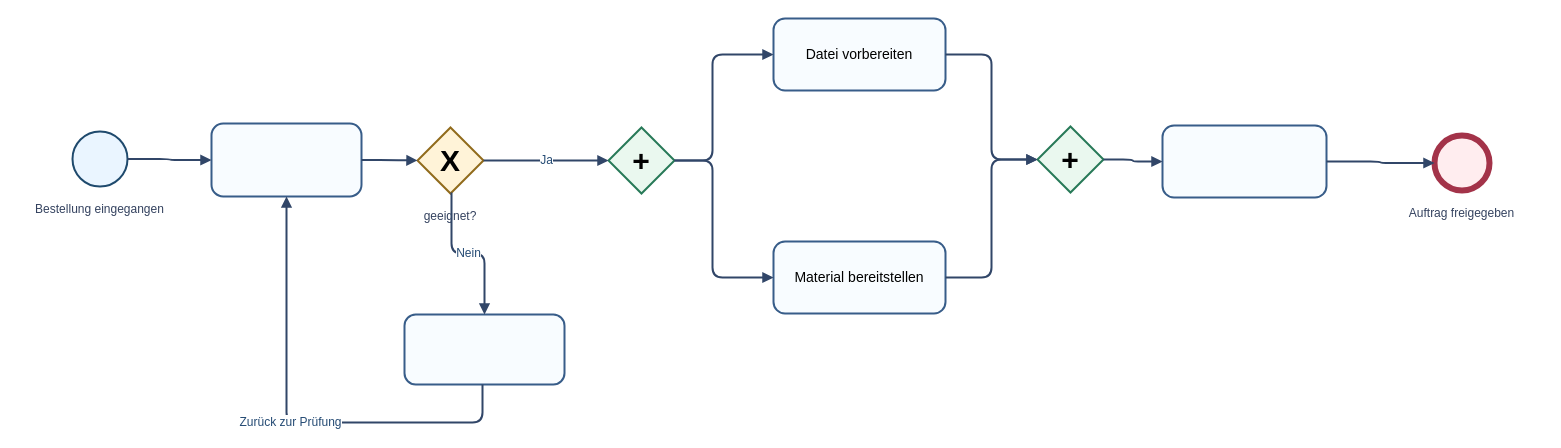
Some shapes in this 1561 by 448 pixel diagram are drawn without their labels. Each missing label, with the centre of its shape:
Druckauftrag freigeben: (1244,161)
Motiv prüfen: (286,159)
Motiv überarbeiten: (484,349)
